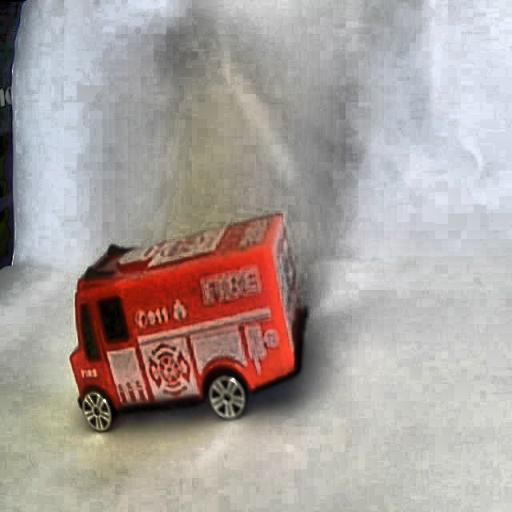fire_truck: (68, 211, 309, 432)
